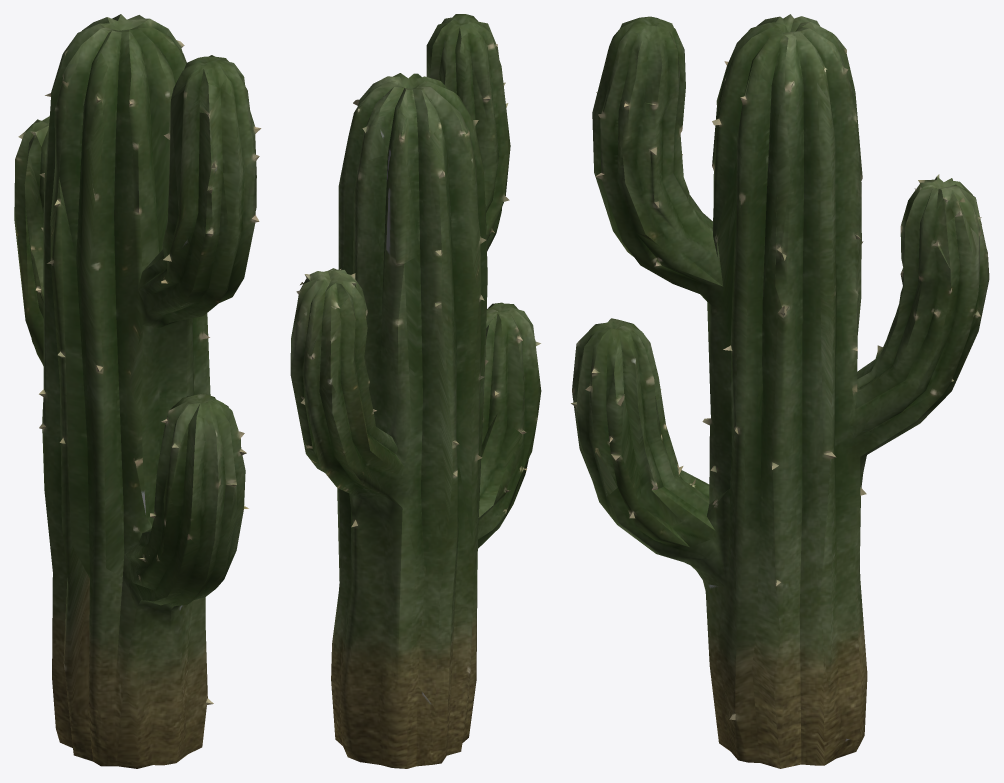
3 views of the same model, side by side, from view 1: azimuth 30°, elevation 25°; view 2: azimuth 150°, elevation 25°; view 3: azimuth 270°, elevation 25° (orthographic). The views are drawn at different scales.
Parts seen in each view (by area): view 1: desert-cactus.001; view 2: desert-cactus.001; view 3: desert-cactus.001.
Boxes of the visible parts, <box> form: desert-cactus.001: <box>14,14,261,768</box>; desert-cactus.001: <box>290,14,541,768</box>; desert-cactus.001: <box>571,14,989,768</box>.
Size of the model in its own units: 0.5354 by 2.4 by 1.26.
Materials: 1 (1 with a texture image).
